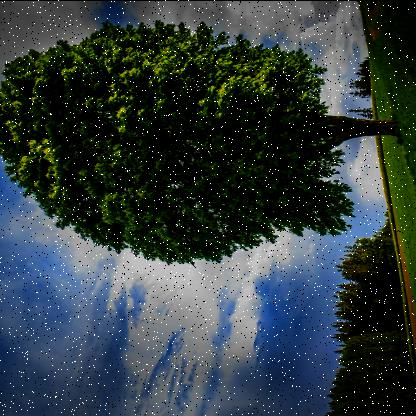Tree: (0, 32, 409, 262), (328, 380, 414, 402), (338, 370, 414, 393), (327, 388, 413, 408), (329, 395, 415, 415), (335, 364, 413, 386), (340, 357, 414, 377), (334, 316, 406, 335), (336, 352, 412, 370), (338, 337, 410, 356), (339, 343, 413, 361), (332, 327, 408, 344), (328, 306, 406, 321), (332, 301, 404, 317), (336, 260, 394, 276), (341, 283, 401, 298), (350, 238, 396, 257), (343, 249, 394, 266), (334, 293, 404, 305), (340, 274, 398, 288), (372, 222, 390, 240), (350, 107, 377, 116), (346, 90, 370, 98), (358, 59, 367, 80), (348, 80, 370, 88)
